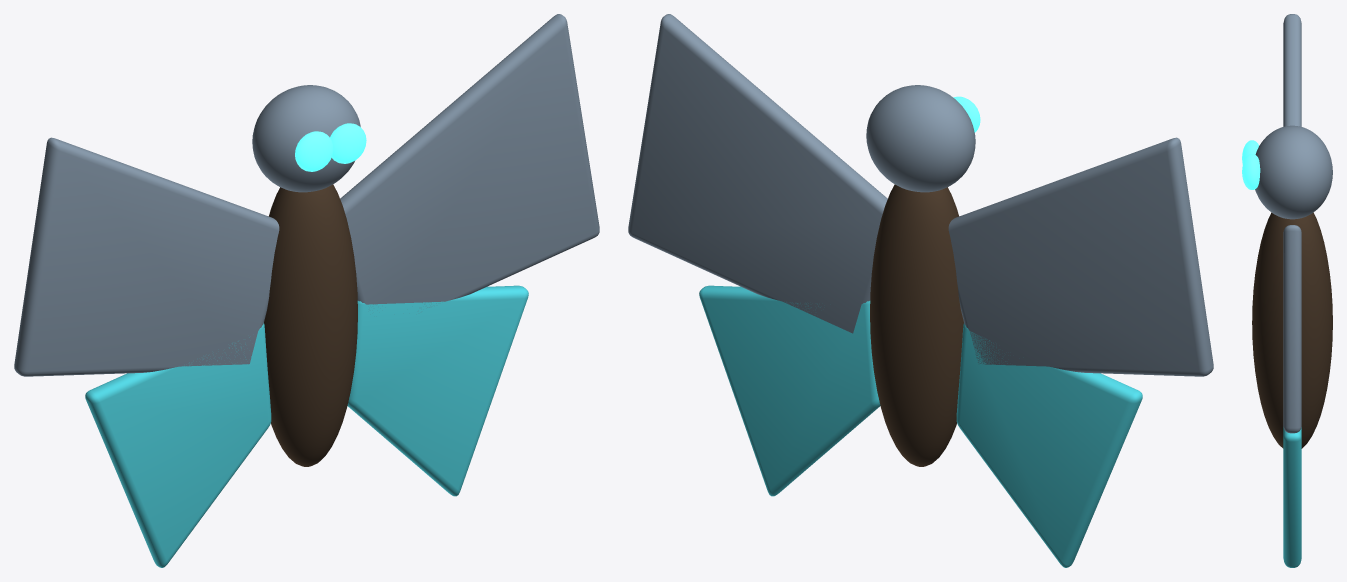
Rendered from insect_v7.glb.
3 renders of one model, left to right at view 1: azimuth 30°, elevation 25°; view 2: azimuth 150°, elevation 25°; view 3: azimuth 270°, elevation 25°, orthographic. The views are drawn at different scales.
Visible parts, largest first — view 1: BUTTERFLY_FOREWING_PRIMARY, BUTTERFLY_FOREWING_PRIMARY.001, BUTTERFLY_HINDWING_ACCENT.001, BUTTERFLY_HINDWING_ACCENT, BUTTERFLY_BODY_SECONDARY, BUTTERFLY_HEAD_PRIMARY, EYE_EMISSIVE, EYE_EMISSIVE.001; view 2: BUTTERFLY_FOREWING_PRIMARY, BUTTERFLY_FOREWING_PRIMARY.001, BUTTERFLY_HINDWING_ACCENT, BUTTERFLY_HINDWING_ACCENT.001, BUTTERFLY_BODY_SECONDARY, BUTTERFLY_HEAD_PRIMARY; view 3: BUTTERFLY_BODY_SECONDARY, BUTTERFLY_HEAD_PRIMARY, BUTTERFLY_FOREWING_PRIMARY.001, BUTTERFLY_HINDWING_ACCENT.001, BUTTERFLY_FOREWING_PRIMARY, EYE_EMISSIVE.001, EYE_EMISSIVE.
Boxes of the visible parts, x1,y1,x2,y2 form: BUTTERFLY_FOREWING_PRIMARY: [14, 137, 279, 376]; BUTTERFLY_FOREWING_PRIMARY.001: [340, 14, 599, 307]; BUTTERFLY_HINDWING_ACCENT.001: [347, 285, 528, 496]; BUTTERFLY_HINDWING_ACCENT: [85, 323, 271, 567]; BUTTERFLY_BODY_SECONDARY: [264, 184, 357, 466]; BUTTERFLY_HEAD_PRIMARY: [252, 85, 360, 192]; EYE_EMISSIVE: [295, 131, 333, 171]; EYE_EMISSIVE.001: [330, 123, 366, 163]; BUTTERFLY_FOREWING_PRIMARY: [948, 137, 1213, 376]; BUTTERFLY_FOREWING_PRIMARY.001: [628, 14, 887, 333]; BUTTERFLY_HINDWING_ACCENT: [956, 323, 1142, 567]; BUTTERFLY_HINDWING_ACCENT.001: [699, 285, 880, 496]; BUTTERFLY_BODY_SECONDARY: [870, 184, 963, 466]; BUTTERFLY_HEAD_PRIMARY: [866, 85, 975, 192]; BUTTERFLY_BODY_SECONDARY: [1252, 212, 1332, 448]; BUTTERFLY_HEAD_PRIMARY: [1255, 125, 1332, 219]; BUTTERFLY_FOREWING_PRIMARY.001: [1283, 225, 1301, 433]; BUTTERFLY_HINDWING_ACCENT.001: [1283, 427, 1301, 567]; BUTTERFLY_FOREWING_PRIMARY: [1283, 14, 1301, 126]; EYE_EMISSIVE.001: [1242, 154, 1260, 189]; EYE_EMISSIVE: [1242, 140, 1258, 164].
Bounding box in the file's own units: 2.83 × 2.11 × 0.45.
